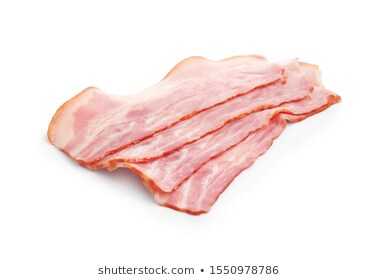bacon: (46, 45, 360, 227)
